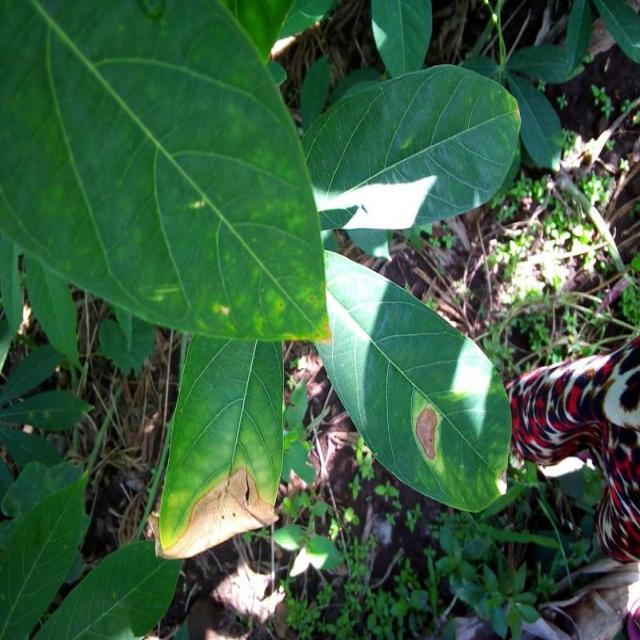cassava leaf: (1, 0, 332, 345), (314, 246, 514, 513), (300, 62, 523, 233), (157, 332, 286, 559)
